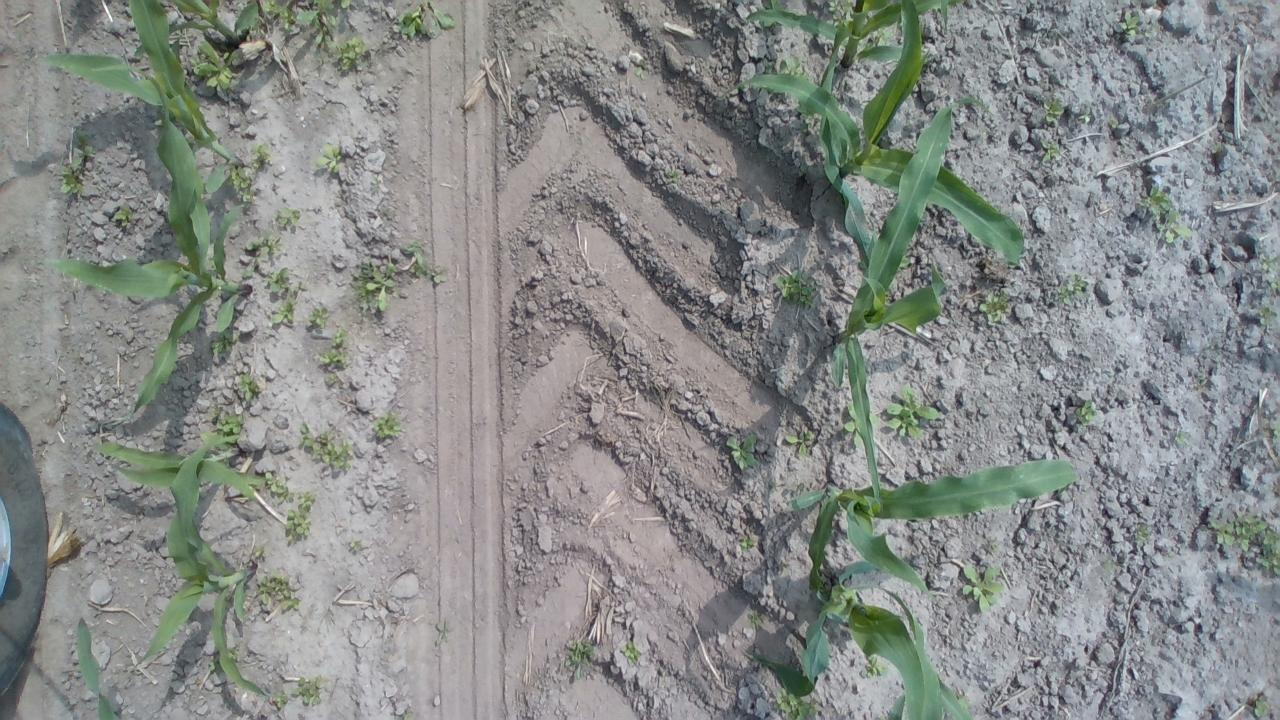Maize: (716, 0, 1028, 263), (34, 64, 253, 425), (828, 103, 954, 504), (34, 0, 247, 195), (788, 459, 1080, 594), (130, 433, 271, 700), (748, 576, 969, 720), (746, 0, 960, 68), (90, 438, 268, 503), (133, 0, 259, 58), (74, 615, 117, 720)
Weeds: (262, 0, 341, 49), (881, 378, 941, 441), (1204, 508, 1267, 554), (190, 37, 242, 91), (391, 0, 457, 41), (296, 424, 354, 468), (352, 257, 395, 314), (958, 565, 1006, 614), (252, 571, 304, 613), (268, 279, 307, 326), (61, 144, 92, 198), (564, 638, 598, 684), (775, 268, 815, 307), (974, 288, 1012, 328), (319, 322, 350, 369), (726, 432, 760, 474), (1155, 209, 1193, 246), (772, 689, 818, 719), (330, 36, 368, 72), (1137, 182, 1175, 217), (1255, 528, 1280, 576), (1056, 272, 1090, 307), (290, 676, 328, 707), (284, 508, 312, 545), (407, 262, 450, 286), (761, 56, 810, 77), (264, 470, 296, 502), (243, 232, 286, 254), (784, 426, 815, 456), (212, 404, 246, 431), (314, 143, 342, 175), (373, 410, 402, 439), (236, 371, 261, 402), (264, 265, 292, 292), (828, 0, 856, 26), (1076, 400, 1102, 428), (275, 204, 304, 229), (210, 334, 242, 356), (226, 166, 254, 190), (1042, 96, 1067, 122), (1040, 137, 1064, 164), (250, 143, 274, 170), (859, 656, 886, 680), (746, 608, 771, 633), (619, 638, 643, 664), (1249, 692, 1271, 720), (1120, 10, 1141, 39), (306, 306, 331, 330), (114, 199, 134, 228), (1257, 248, 1279, 274), (1258, 302, 1280, 326), (296, 488, 318, 512), (1130, 525, 1152, 549), (402, 240, 423, 265), (769, 481, 806, 495), (432, 619, 451, 646), (238, 258, 260, 280), (318, 604, 338, 627), (72, 128, 90, 148), (1263, 276, 1280, 297), (270, 688, 286, 710), (250, 543, 268, 562), (876, 29, 898, 44), (634, 58, 648, 80), (1173, 426, 1188, 445), (1270, 416, 1280, 444), (741, 533, 758, 549), (1102, 560, 1117, 578), (958, 694, 973, 711), (346, 538, 364, 552), (985, 536, 1001, 551), (237, 189, 253, 204), (1208, 140, 1224, 154), (798, 121, 812, 136), (324, 372, 336, 389), (370, 173, 382, 190), (208, 657, 221, 672), (1077, 112, 1095, 122), (668, 171, 681, 184), (1108, 118, 1121, 130), (403, 708, 416, 720), (228, 646, 238, 660), (796, 105, 813, 113), (341, 0, 352, 10)
